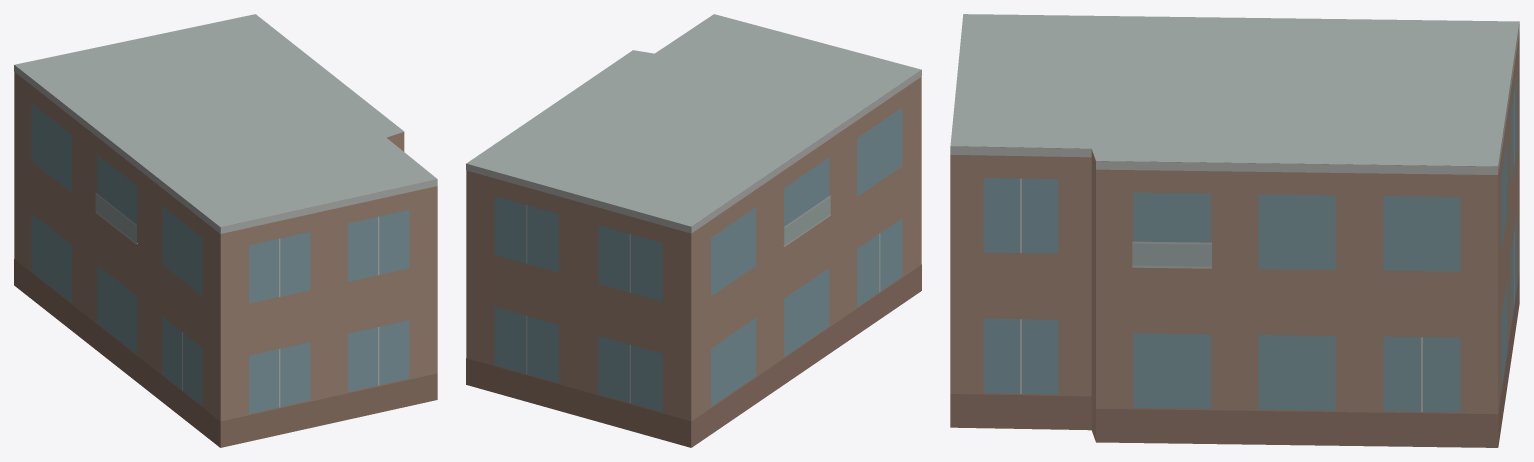
The model's file is survey-upis-32747310.glb.
3 renders of one model, left to right at view 1: azimuth 30°, elevation 25°; view 2: azimuth 150°, elevation 25°; view 3: azimuth 270°, elevation 25°, orthographic. The views are drawn at different scales.
Visible parts, largest first — view 1: survey-upis-32747310.tmp; view 2: survey-upis-32747310.tmp; view 3: survey-upis-32747310.tmp.
Boxes of the visible parts, x1=… form: survey-upis-32747310.tmp: x1=14, y1=14, x2=437, y2=447; survey-upis-32747310.tmp: x1=466, y1=14, x2=921, y2=447; survey-upis-32747310.tmp: x1=950, y1=14, x2=1519, y2=447.
Size of the model in its own units: 9.18 by 7.9 by 14.49.
